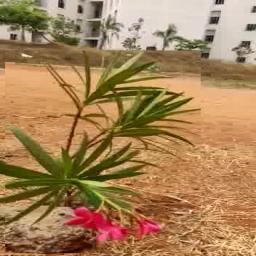OLEANDER: (6, 51, 202, 254)
